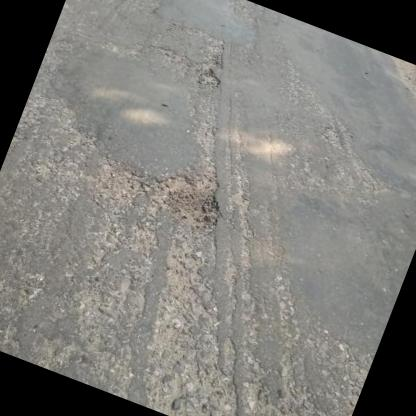pothole: (144, 162, 232, 236), (194, 64, 224, 93)
